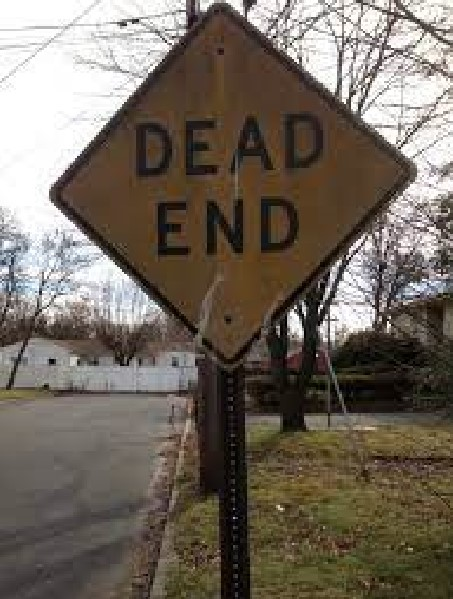Deadend: (46, 1, 418, 375)
